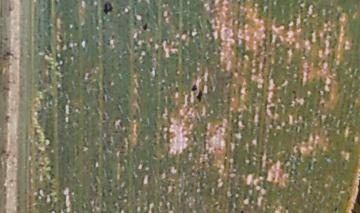tarspot: (102, 1, 114, 16), (195, 89, 203, 103), (190, 82, 198, 93), (290, 89, 298, 100), (141, 21, 149, 31), (319, 100, 327, 109), (5, 51, 15, 58), (4, 114, 11, 124), (7, 1, 13, 12), (332, 206, 339, 213), (3, 36, 10, 43), (73, 25, 80, 32), (307, 29, 314, 35), (313, 110, 319, 116), (210, 1, 215, 6), (238, 209, 244, 213), (52, 1, 58, 5)
